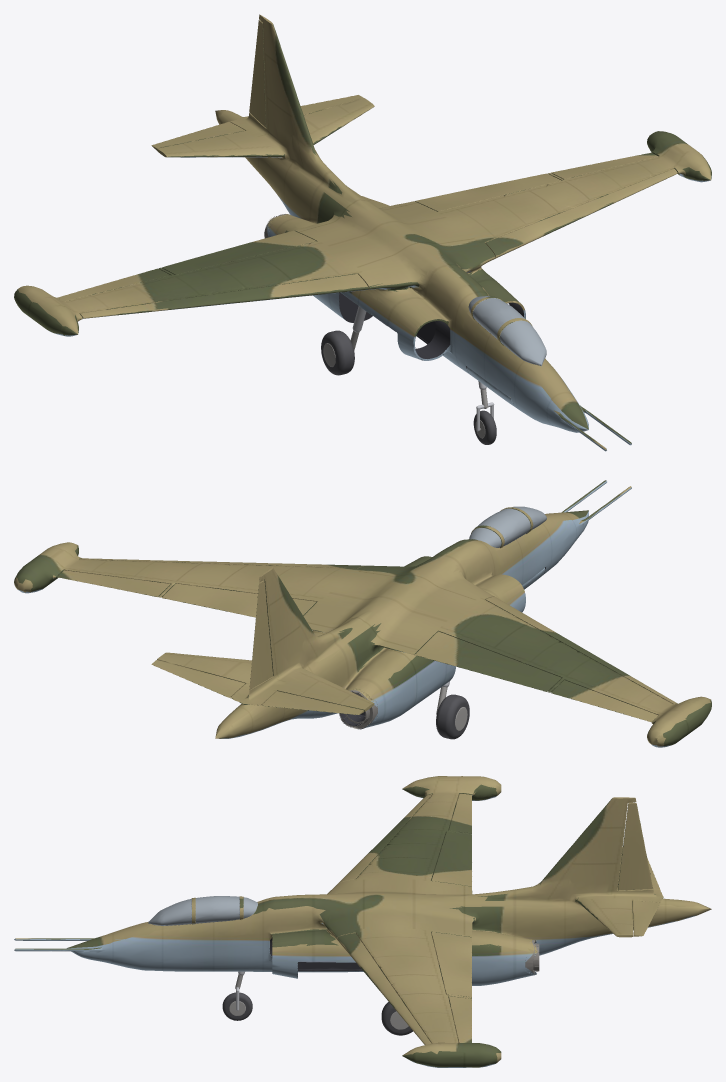
3 renders of one model, top to bottom at view 1: azimuth 30°, elevation 25°; view 2: azimuth 150°, elevation 25°; view 3: azimuth 270°, elevation 25°, orthographic. The views are drawn at different scales.
Parts seen in each view (by area): view 1: airframe, fsim:lef@0,12 (×2), fsim:flaps (×2), fsim:aileron (×2), fsim:wheel:2:0.42, fsim:rudder, fsim:elevator; view 2: airframe, fsim:flaps (×2), fsim:aileron (×2), fsim:elevator (×2), fsim:lef@0,12 (×2), fsim:rudder, fsim:wheel:2:0.42; view 3: airframe, fsim:flaps (×2), fsim:lef@0,12 (×2), fsim:rudder, fsim:aileron (×2), fsim:elevator, fsim:wheel:0:0.33, fsim:wheel:1:0.42.
Boxes of the visible parts, x1=… form: airframe: x1=14, y1=14, x2=711, y2=451; fsim:lef@0,12 (×2): x1=80, y1=168, x2=677, y2=318; fsim:flaps (×2): x1=161, y1=173, x2=561, y2=274; fsim:aileron (×2): x1=57, y1=152, x2=658, y2=301; fsim:wheel:2:0.42: x1=321, y1=330, x2=354, y2=375; fsim:rudder: x1=249, y1=20, x2=266, y2=127; fsim:elevator: x1=151, y1=121, x2=245, y2=149; airframe: x1=14, y1=480, x2=711, y2=747; fsim:flaps (×2): x1=162, y1=583, x2=561, y2=691; fsim:aileron (×2): x1=57, y1=570, x2=658, y2=722; fsim:elevator (×2): x1=151, y1=660, x2=363, y2=714; fsim:lef@0,12 (×2): x1=80, y1=558, x2=676, y2=704; fsim:rudder: x1=249, y1=580, x2=272, y2=689; fsim:wheel:2:0.42: x1=436, y1=694, x2=469, y2=739; airframe: x1=14, y1=776, x2=711, y2=1067; fsim:flaps (×2): x1=431, y1=831, x2=471, y2=997; fsim:lef@0,12 (×2): x1=337, y1=794, x2=432, y2=1044; fsim:rudder: x1=618, y1=802, x2=652, y2=890; fsim:aileron (×2): x1=448, y1=793, x2=471, y2=1042; fsim:elevator: x1=632, y1=900, x2=660, y2=936; fsim:wheel:0:0.33: x1=222, y1=992, x2=252, y2=1020; fsim:wheel:1:0.42: x1=381, y1=1002, x2=412, y2=1035.
Size of the model in its own units: 14.4 by 5.42 by 15.28.
7 materials, 1 textured.
